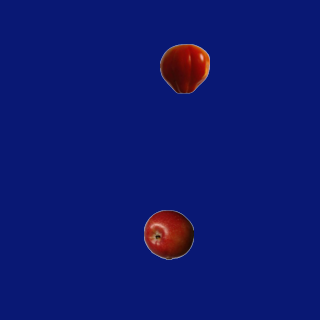Apple Braeburn: (143, 209, 193, 259)
Tomato 1: (159, 43, 209, 93)
